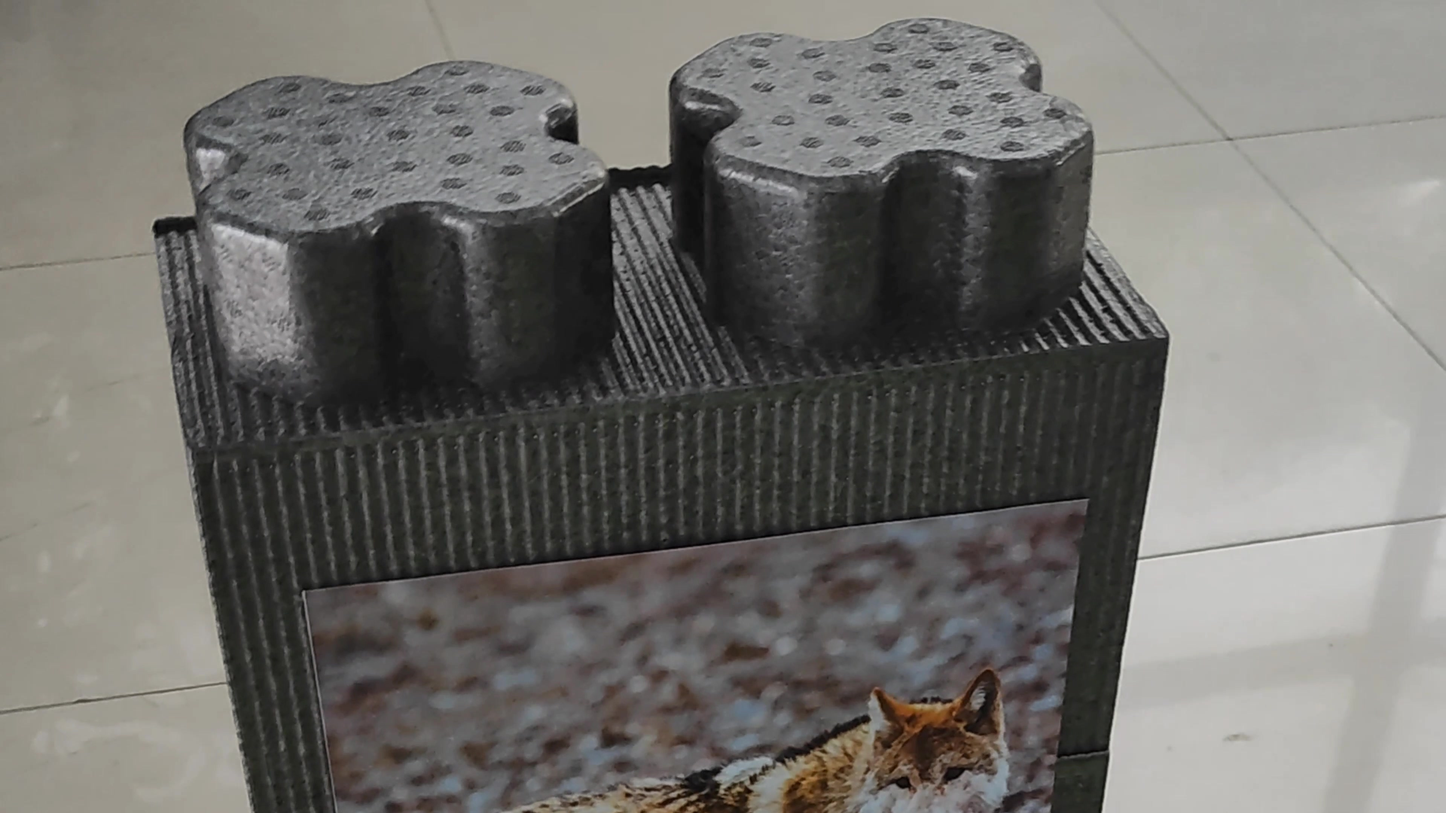wolf: (388, 618, 1024, 813)
